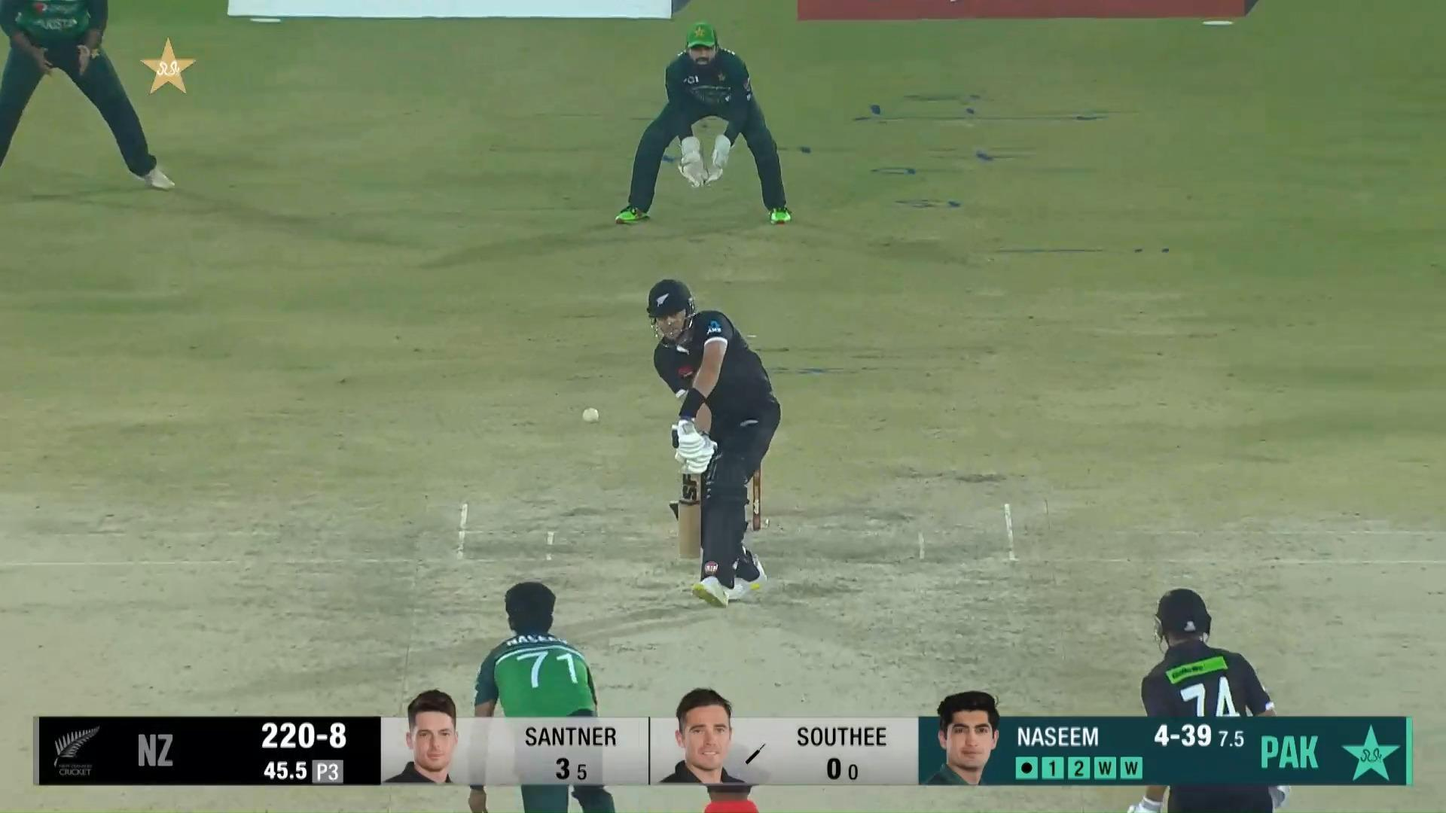BM 1: (647, 278, 782, 611)
BO: (468, 580, 618, 813)
